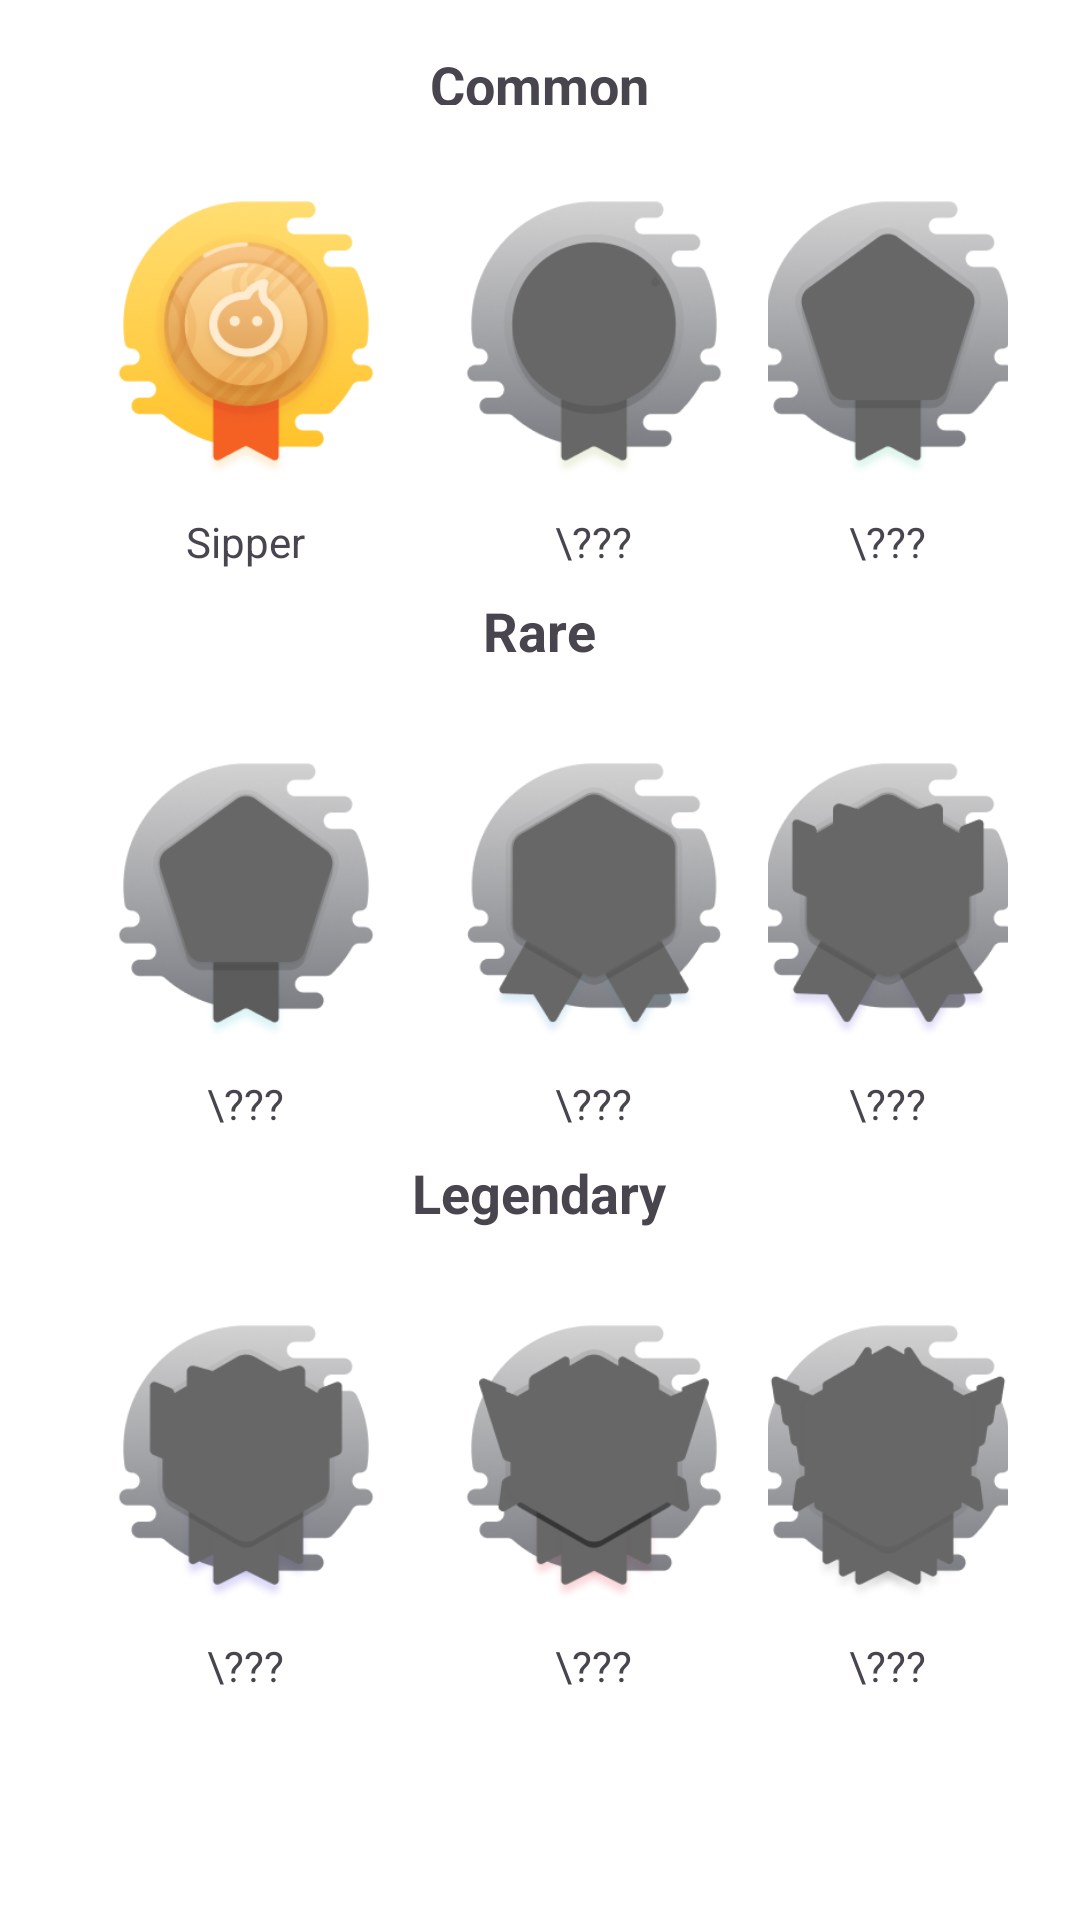

Locate icon controls on the screen. Image size 1080×1920, boxes as (x1, y1, x2, y2).
Aqua Achiever Badge: (119, 201, 374, 466)
